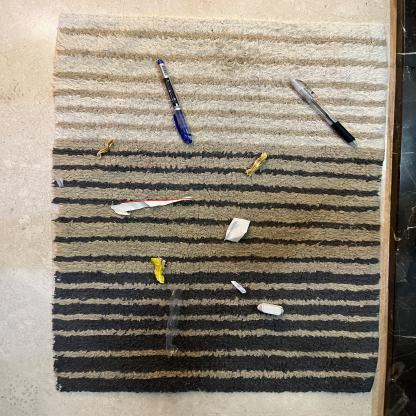dirty: (111, 196, 192, 216), (166, 288, 180, 358), (224, 218, 250, 242), (245, 152, 268, 176), (150, 257, 166, 284), (96, 140, 115, 158), (229, 281, 248, 293), (56, 176, 64, 188)
